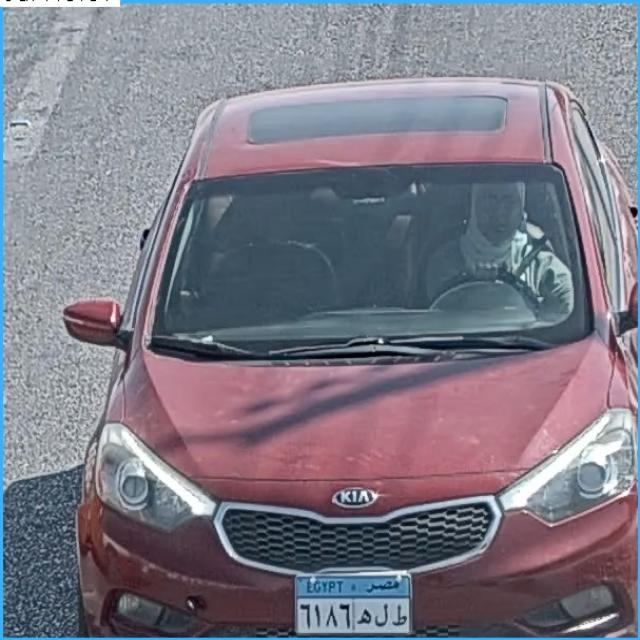windshield: (156, 174, 584, 348)
